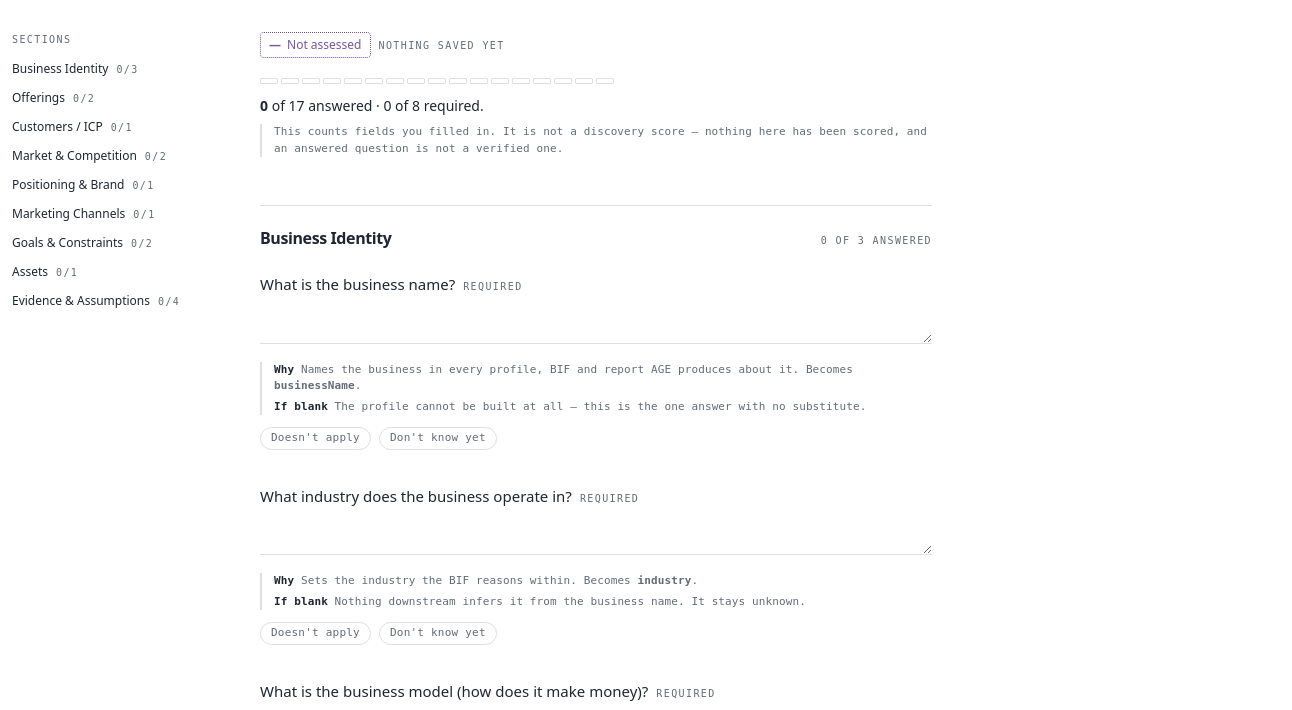
Test case: DiscoveryForm › autosave › says NOT SAVED when the save was refused, and keeps the typing on screen
The image size is (1292, 710).
In the text box labelled "What is the business name?required": (596, 323) [260,303,932,344], type "Fictional"
Wait 2000 ms
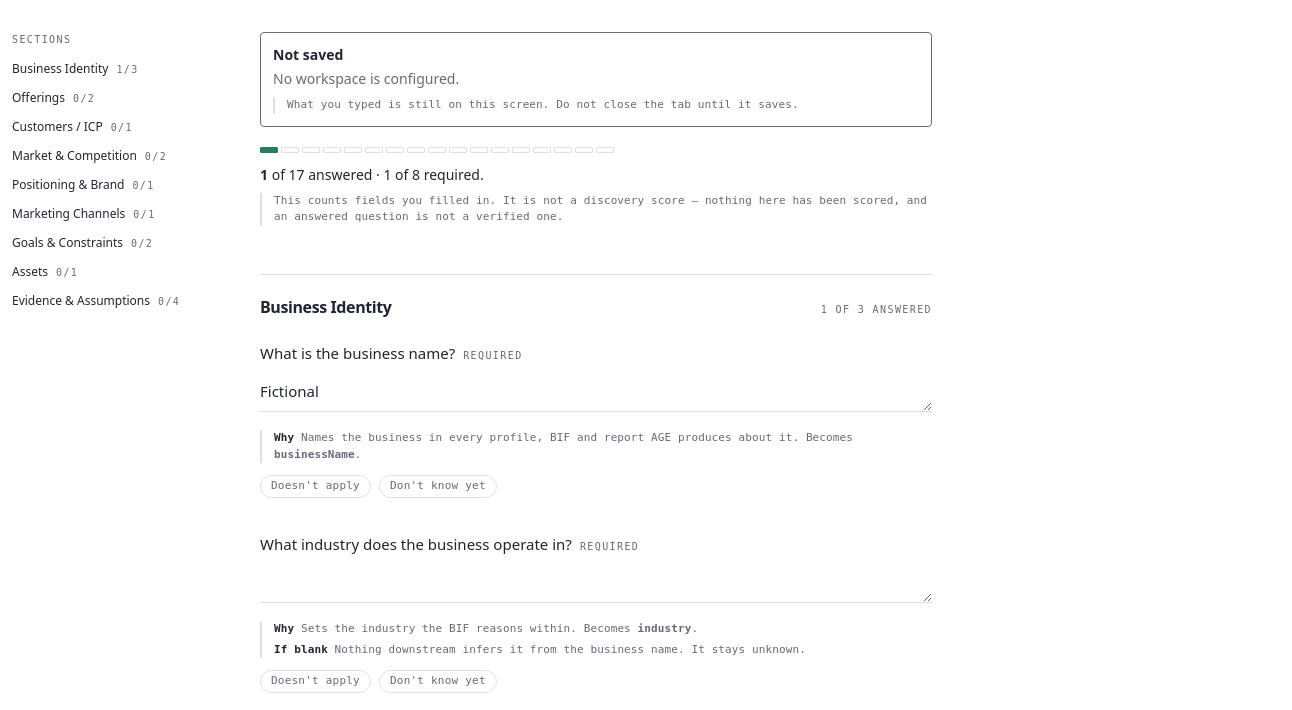
Expected: the text "Not saved" is shown, [273,45,343,64]
Expected: the text "No workspace is configured." is shown, [273,69,459,88]
Expected: the text "Do not close the tab" is shown, [287,98,799,111]
